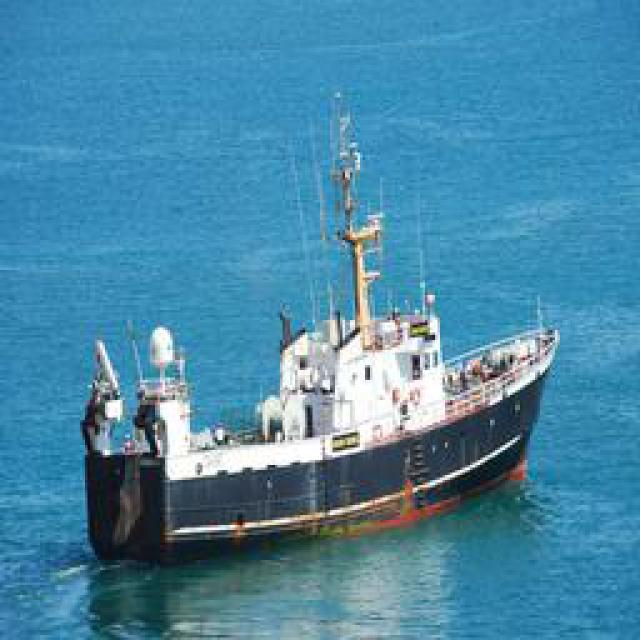Ship: (75, 72, 550, 570)
